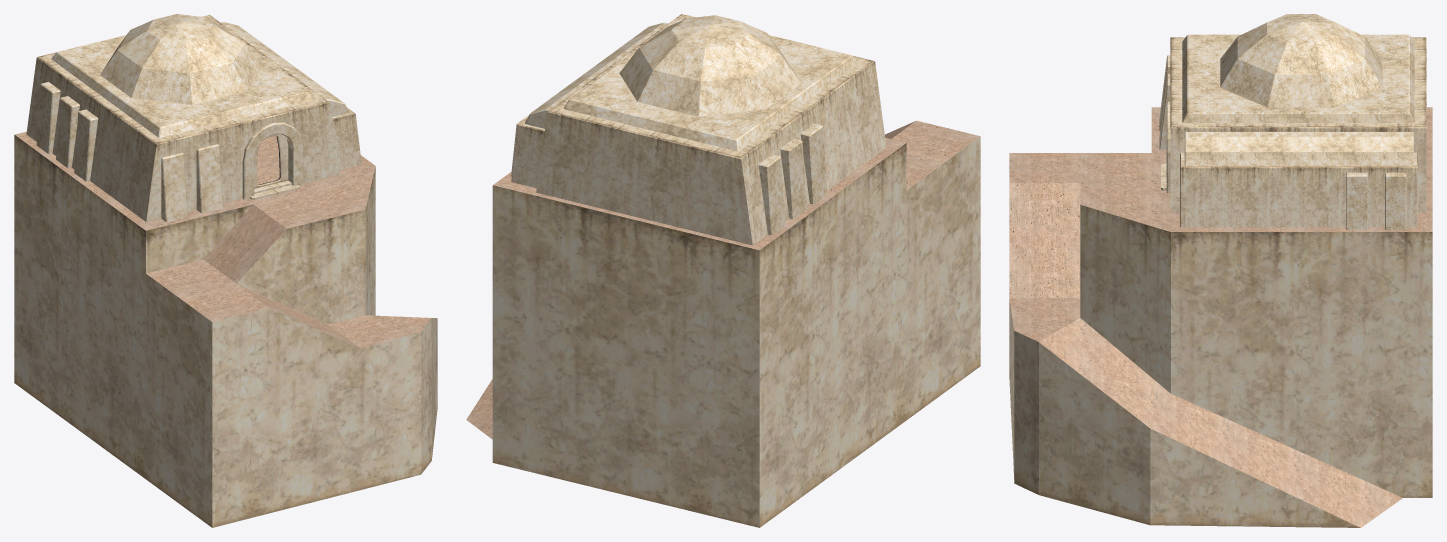
The model's file is ply_tato_house_sm_s01_fp1_r0_mesh_l1.fbx.
3 renders of one model, left to right at view 1: azimuth 30°, elevation 25°; view 2: azimuth 150°, elevation 25°; view 3: azimuth 270°, elevation 25°, orthographic. The views are drawn at different scales.
Visible parts, largest first — view 1: mesh_node; view 2: mesh_node; view 3: mesh_node.
Part boxes in pixels (x1,y1,x2,y2): mesh_node: [14, 14, 437, 527]; mesh_node: [466, 14, 980, 527]; mesh_node: [1009, 14, 1432, 527].
Bounding box in the file's own units: 20.58 × 25.23 × 23.82.
